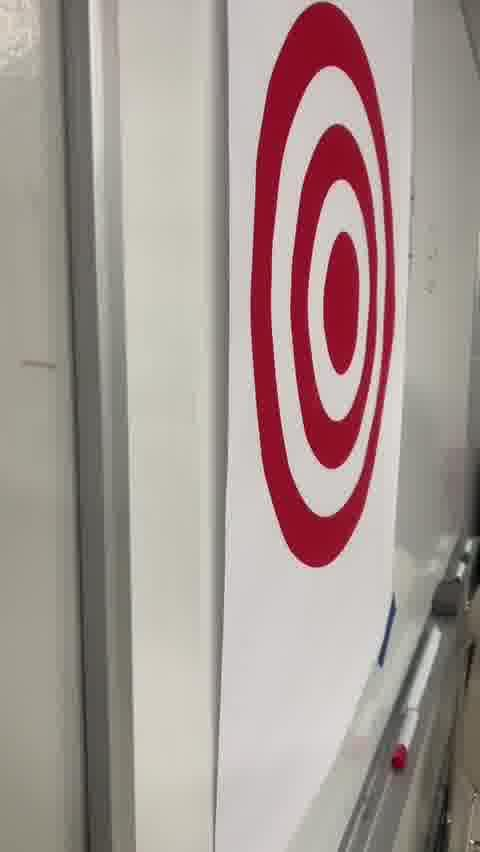target_red: (251, 3, 393, 569)
